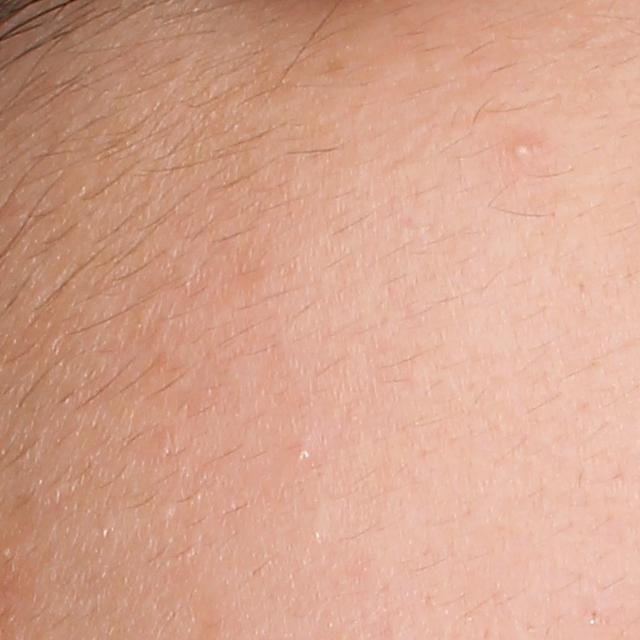comedo: (289, 440, 317, 467)
pustule: (510, 135, 541, 162)
